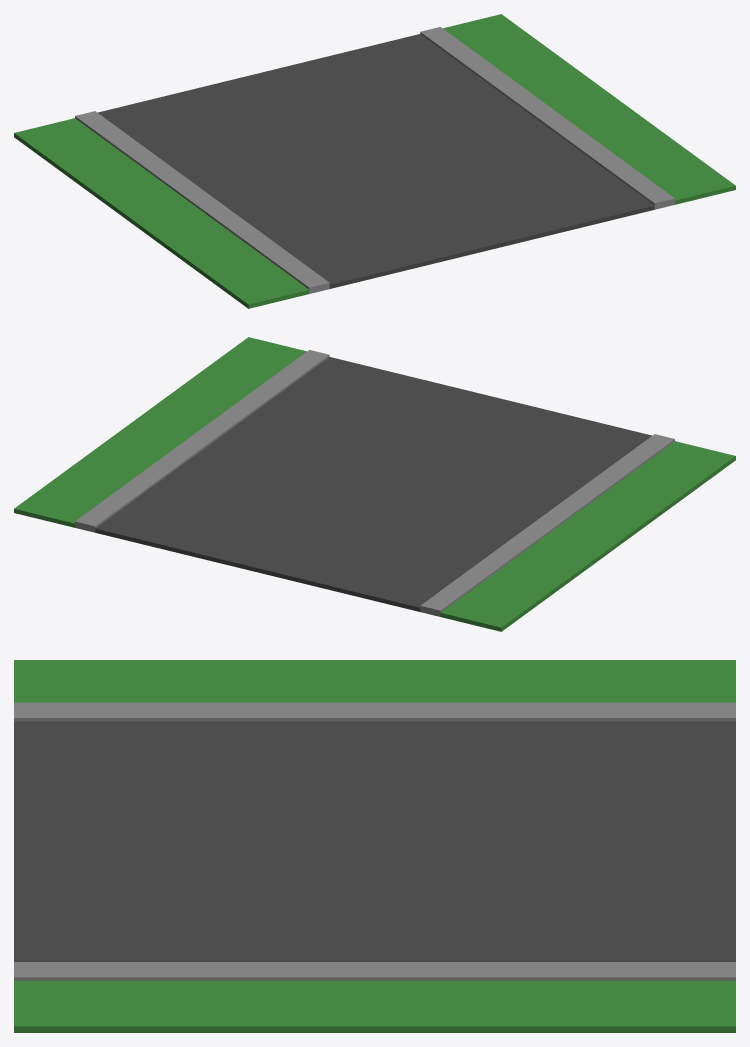
File: Road.glb
The picture shows the model from 3 angles, top to bottom: view 1: azimuth 30°, elevation 25°; view 2: azimuth 150°, elevation 25°; view 3: azimuth 270°, elevation 25°; orthographic projection. The views are drawn at different scales.
Parts seen in each view (by area): view 1: Cube.002, Cube.001, Cube.003, Cube.004, Cube; view 2: Cube.002, Cube.001, Cube.003, Cube.004, Cube; view 3: Cube.002, Cube.003, Cube.001, Cube, Cube.004.
Boxes of the visible parts, left/top/right/bottom form: Cube.002: left=98, top=34, right=654, bottom=288; Cube.001: left=14, top=118, right=309, bottom=308; Cube.003: left=443, top=14, right=735, bottom=204; Cube.004: left=420, top=27, right=674, bottom=209; Cube: left=75, top=111, right=329, bottom=293; Cube.002: left=95, top=357, right=651, bottom=611; Cube.001: left=440, top=441, right=735, bottom=631; Cube.003: left=14, top=337, right=306, bottom=527; Cube.004: left=75, top=350, right=329, bottom=532; Cube: left=420, top=434, right=674, bottom=616; Cube.002: left=14, top=721, right=735, bottom=961; Cube.003: left=14, top=980, right=735, bottom=1032; Cube.001: left=14, top=660, right=735, bottom=702; Cube: left=14, top=702, right=735, bottom=721; Cube.004: left=14, top=962, right=735, bottom=980.
Bounding box in the file's own units: 2400 × 30 × 2000.
